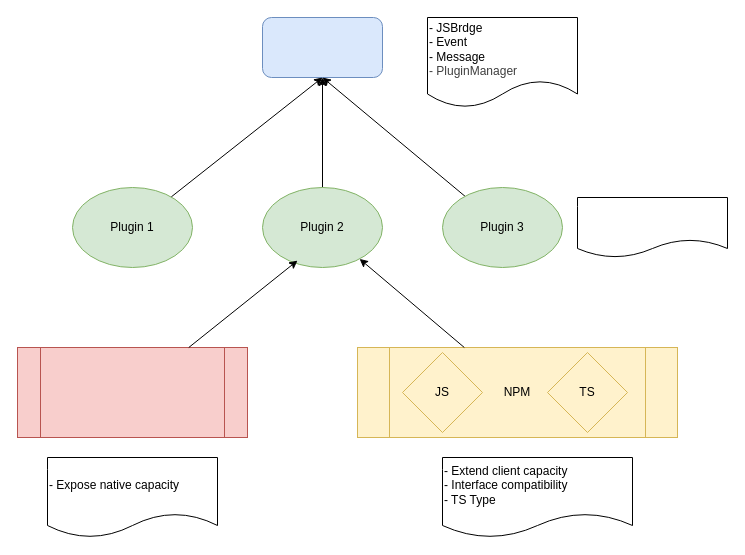
Some shapes in this 745 by 555 pixel diagram are drawn without their labels. The centre of each missing label's shape, as x and y in pixels:
Cloak Framework: (322,47)
ExtendBasePlugin: (652,227)
OHPM .har: (132,392)
